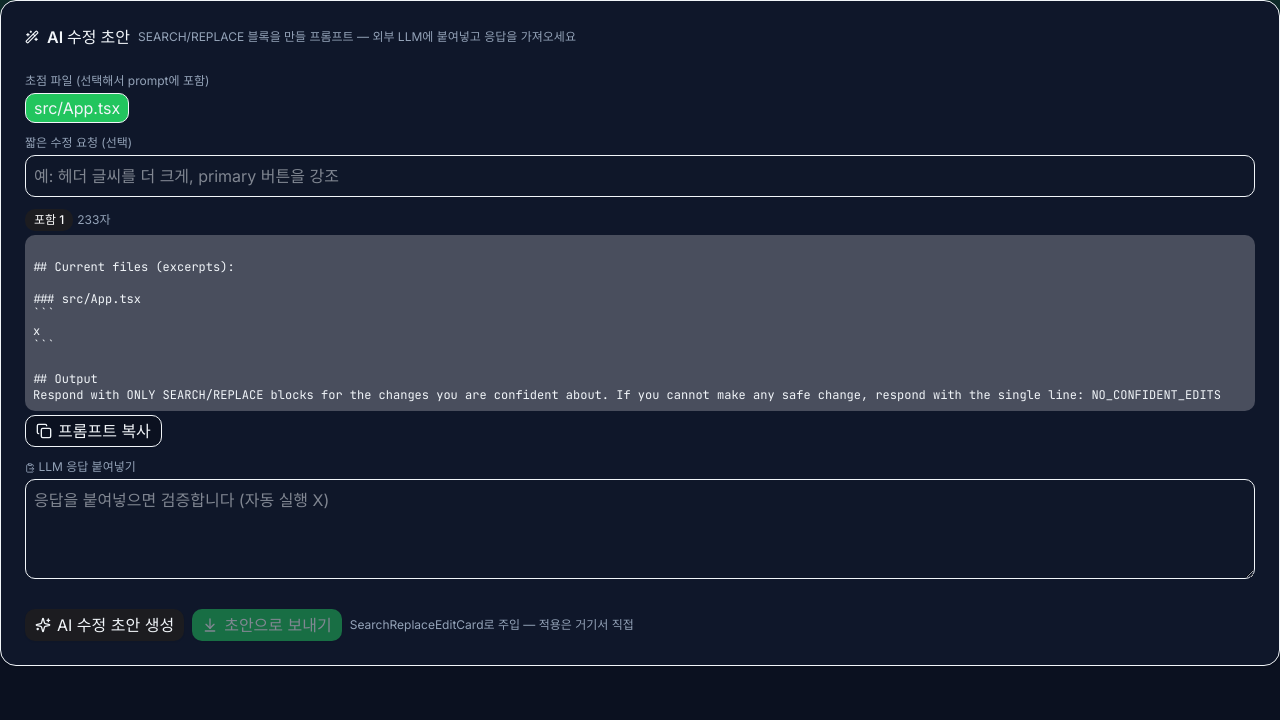
Test: TurboEditDraftCard — OSS-H5 producer surface › (T10 — H6) generator가 ok=false → 'failed' 라벨 + onSendDraft 호출 0
The width and height of the screenshot is (1280, 720).
Type "x" into the field with test id "turbo-edits-instruction-th10". click: (640, 176)
box: [25,155,1255,197]
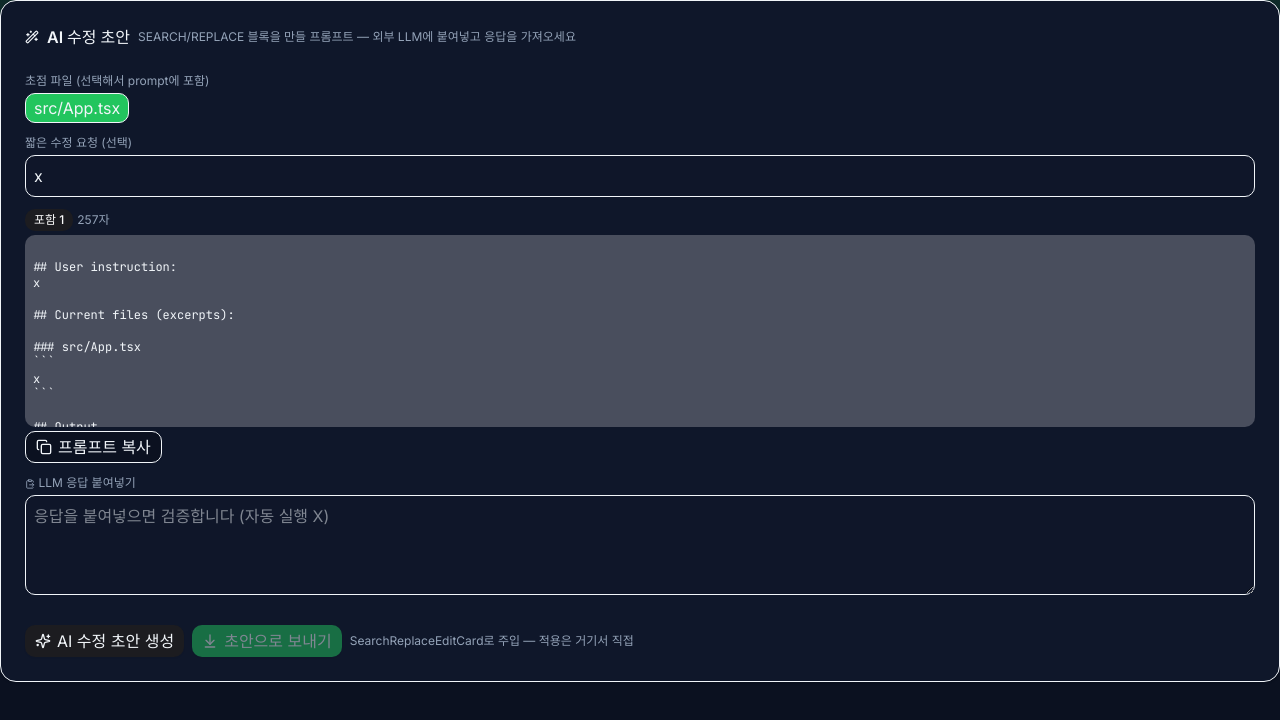
Click the button with test id "turbo-edits-generate-th10". click: (105, 641)
box: [25,625,184,657]
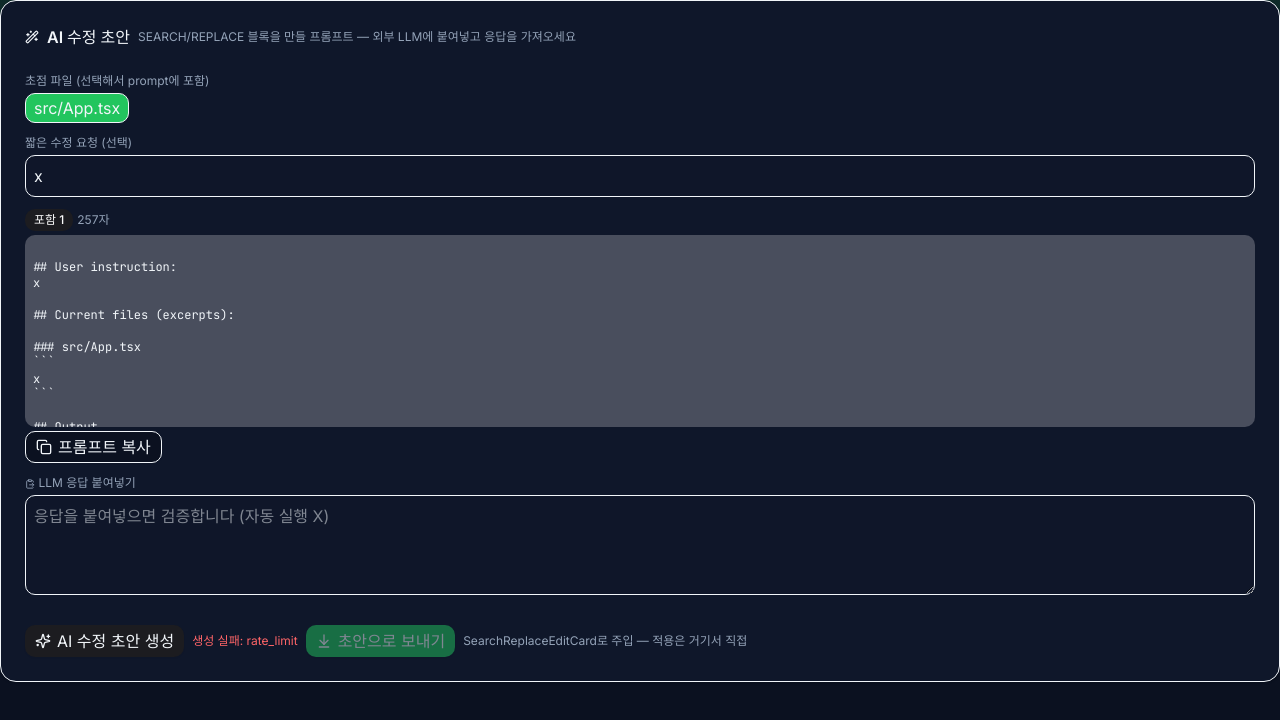
Expected: the text with test id "turbo-edits-generate-failed-th10" shows "rate_limit", [246,633,298,648]
